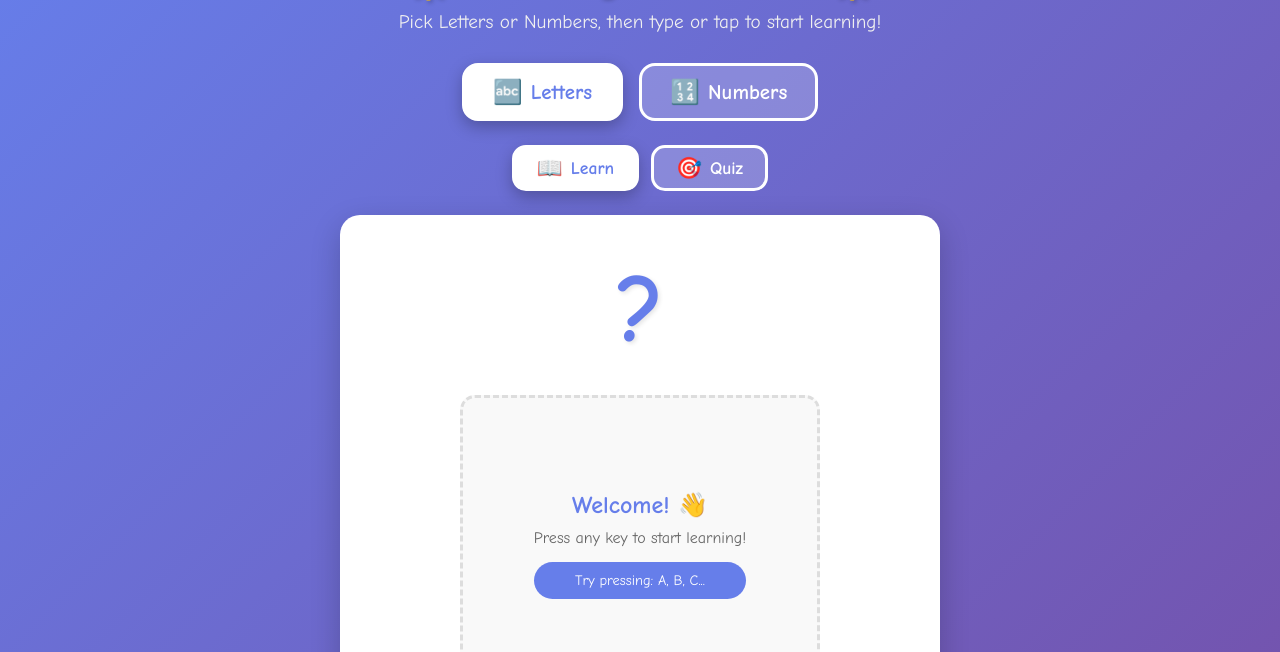
Scenario: Numbers Learning Mode › Integration — cross-mode and full workflows › "Next Number" button selects an unlearned number
Click the tab "🔢 Numbers": (729,92) 639,63 -> 818,121
(page scrolled)
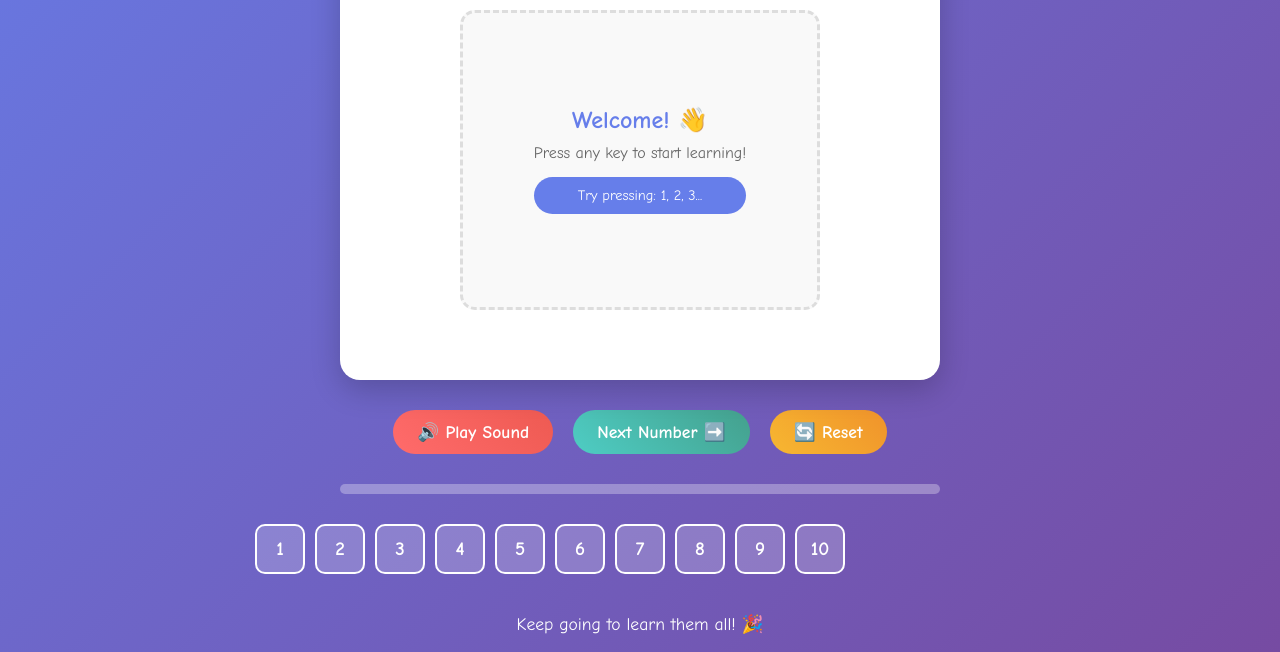
Click the button with aria-label "Go to next number": (661,432) 573,410 -> 750,454
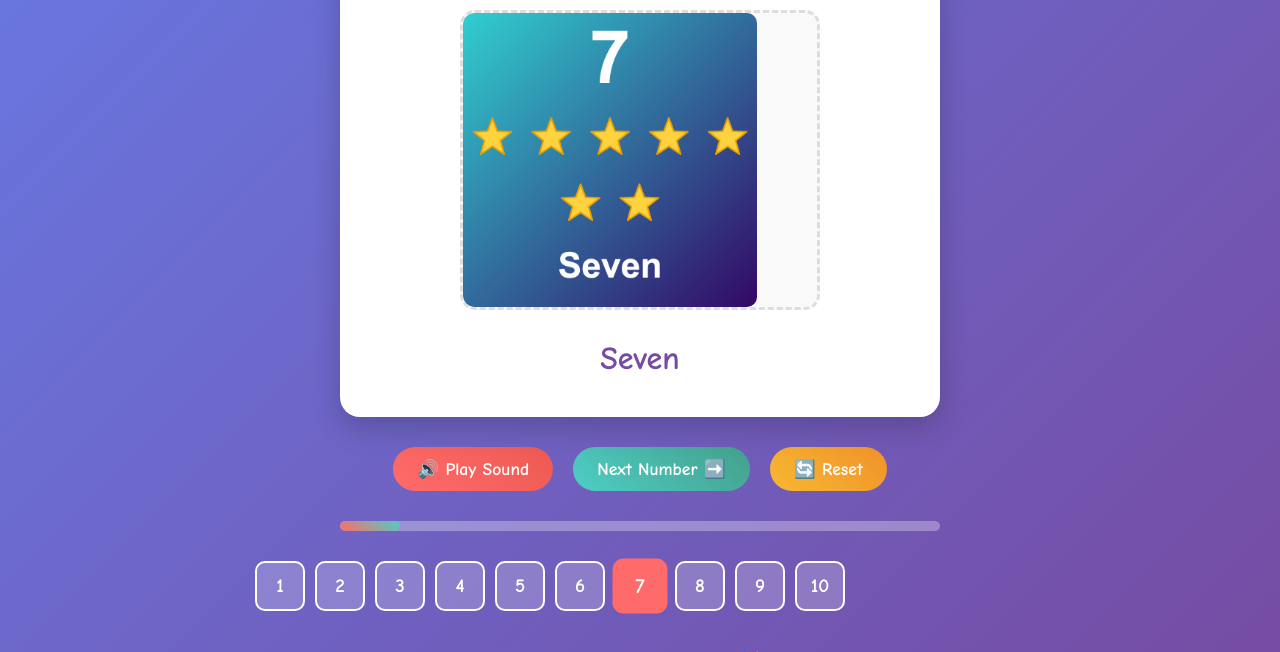
Now the element named "10% of numbers learned" is shown, box 340,521 -> 400,531
